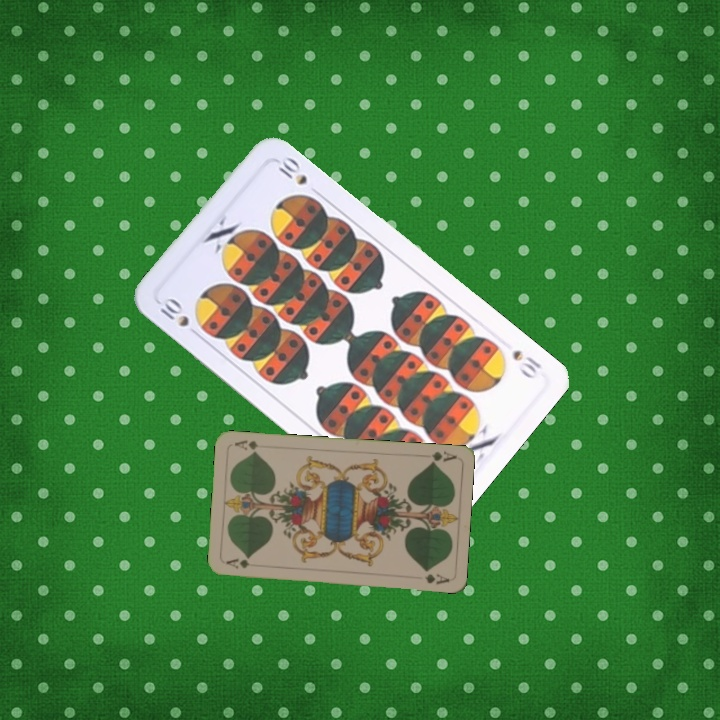GA: (222, 555, 262, 571), (426, 447, 458, 466)
S10: (153, 293, 203, 340), (508, 345, 544, 382)
